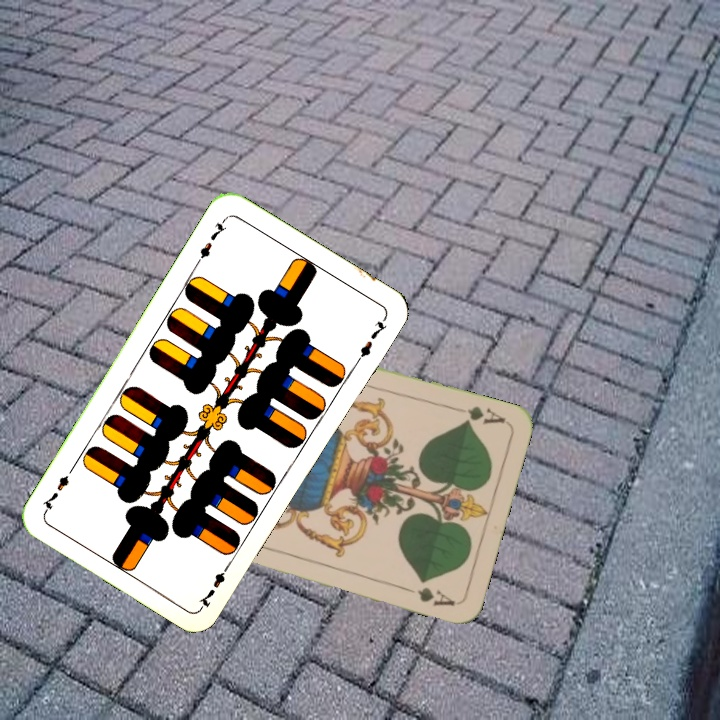E7: (195, 558, 234, 611), (192, 214, 230, 267)
GA: (459, 402, 508, 428)
